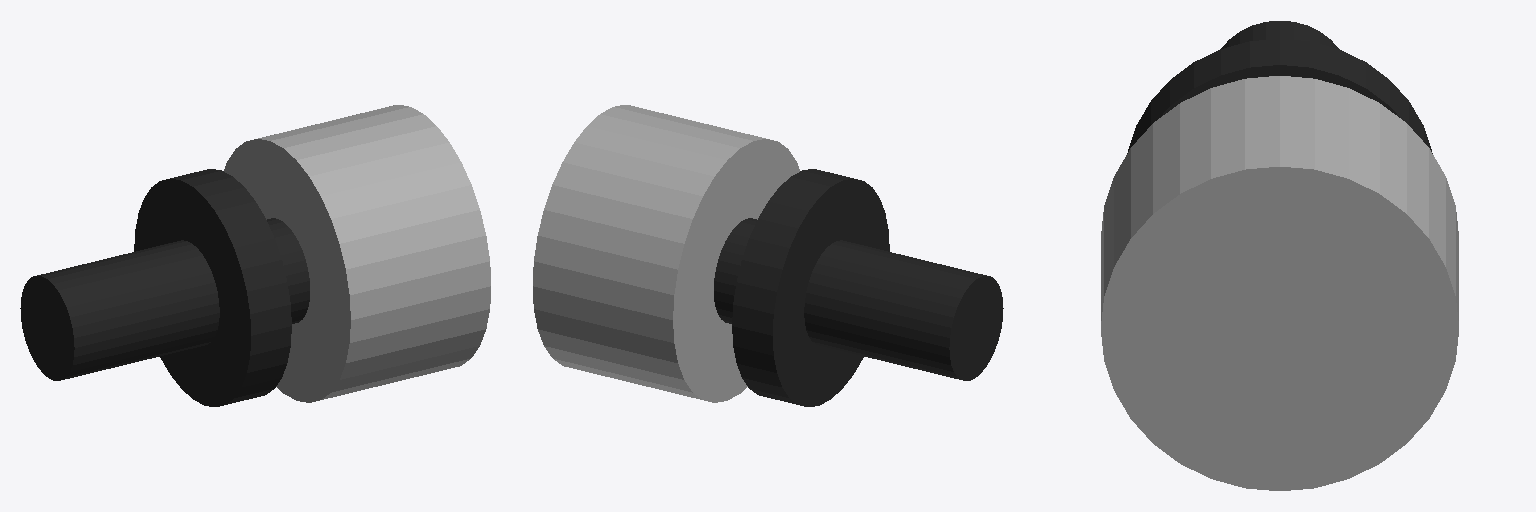
The robot description file, URDF, robot "panda":
<?xml version='1.0' encoding='utf-8'?>
<robot name="panda">

    <link name="link0">
      <inertial>
        <origin xyz="0 0 0.05" rpy="0 0 0" />
        <mass value="4" />
        <inertia ixx="0.4" iyy="0.4" izz="0.4" ixy="0" ixz="0" iyz="0" />
      </inertial>
      <visual>
        <geometry>
          <mesh filename="../../../models/panda/meshes/visual/link0.obj"/>
        </geometry>
      </visual>
    </link>
    <link name="link1">
      <inertial>
        <origin xyz="0 0 -0.07" rpy="0 -0 0" />
        <mass value="3" />
        <inertia ixx="0.3" iyy="0.3" izz="0.3" ixy="0" ixz="0" iyz="0" />
      </inertial>
      <visual>
        <geometry>
          <mesh filename="../../../models/panda/meshes/visual/link1.obj"/>
        </geometry>
      </visual>
    </link>
    <link name="link2">
      <inertial>
        <origin xyz="0 -0.1 0" rpy="0 -0 0" />
        <mass value="3" />
        <inertia ixx="0.3" iyy="0.3" izz="0.3" ixy="0" ixz="0" iyz="0" />
      </inertial>
      <visual>
        <geometry>
          <mesh filename="../../../models/panda/meshes/visual/link2.obj"/>
        </geometry>
      </visual>
    </link>
    <link name="link3">
      <inertial>
        <origin xyz="0.04 0 -0.05" rpy="0 -0 0" />
        <mass value="2" />
        <inertia ixx="0.2" iyy="0.2" izz="0.2" ixy="0" ixz="0" iyz="0" />
      </inertial>
      <visual>
        <geometry>
          <mesh filename="../../../models/panda/meshes/visual/link3.obj"/>
        </geometry>
      </visual>
    </link>
    <link name="link4">
      <inertial>
        <origin xyz="-0.04 0.05 0" rpy="0 -0 0" />
        <mass value="2" />
        <inertia ixx="0.2" iyy="0.2" izz="0.2" ixy="0" ixz="0" iyz="0" />
      </inertial>
      <visual>
        <geometry>
          <mesh filename="../../../models/panda/meshes/visual/link4.obj"/>
        </geometry>
      </visual>   
    </link>
    <link name="link5">
      <inertial>
        <origin xyz="0 0 -0.15" rpy="0 -0 0" />
        <mass value="2" />
        <inertia ixx="0.2" iyy="0.2" izz="0.2" ixy="0" ixz="0" iyz="0" />
      </inertial>
      <visual>
        <geometry>
          <mesh filename="../../../models/panda/meshes/visual/link5.obj"/>
        </geometry>
      </visual>
    </link>
    <link name="link6">
      <inertial>
        <origin xyz="0.06 0 0" rpy="0 -0 0" />
        <mass value="1.5" />
        <inertia ixx="0.1" iyy="0.1" izz="0.1" ixy="0" ixz="0" iyz="0" />
      </inertial>
      <visual>
        <geometry>
          <mesh filename="../../../models/panda/meshes/visual/link6.obj"/>
        </geometry>
      </visual>
    </link>
    <link name="link7">
      <inertial>
        <origin xyz="0 0 0.17" rpy="0 -0 0" />
        <mass value="1.8" />
        <inertia ixx="0.09" iyy="0.05" izz="0.07" ixy="0" ixz="0" iyz="0" />
      </inertial>
      <visual>
        <geometry>
          <mesh filename="../../../models/panda/meshes/visual/link7.obj"/>
        </geometry>
      </visual>
      <visual>
        <origin xyz="0.0 0.0 0.107" rpy="0.0 0.0 0.0"/>
        <geometry>
          <cylinder radius="0.0375" length="0.045"/>
        </geometry>
      </visual>
      <visual>
        <origin xyz="0.0 0.0 0.152" rpy="0.0 0.0 0.0"/>
        <geometry>
          <cylinder radius="0.0325" length="0.013" />
        </geometry>
        <material name = "gray">
          <color rgba="0.2 0.2 0.2 1.0"/>
        </material>
      </visual>
      <collision>
        <origin xyz="0.0 0.0 0.152" rpy="0.0 0.0 0.0"/>
        <geometry>
          <cylinder radius="0.0325" length="0.013" />
        </geometry>
        <material name = "gray">
          <color rgba="0.2 0.2 0.2 1.0"/>
        </material>
      </collision>
      <!-- <collision>
        <origin xyz="0.0 0.0 0.1" rpy="0.0 0.0 0.0"/>
        <geometry>
          <cylinder radius="0.0375" length="0.02" />
        </geometry>
      </collision> -->
    </link>
    <link name="end-effector">
      <inertial>
        <origin xyz="0 0 0" rpy="0 -0 0" />
        <mass value="0.2" />
        <inertia ixx="0.01" iyy="0.01" izz="0.01" ixy="0" ixz="0" iyz="0" />
      </inertial>
      <!-- <visual>
        <origin xyz="0.0 0.0 0.1" rpy="0.0 0.0 0.0"/>
        <geometry>
          <cylinder radius="0.0375" length="0.02" />
        </geometry>
      </visual>
      <collision>
        <origin xyz="0.0 0.0 0.1" rpy="0.0 0.0 0.0"/>
        <geometry>
          <cylinder radius="0.0375" length="0.02" />
        </geometry>
      </collision> -->
      <visual>
        <origin xyz="0.0 0.0 0.165" rpy="0.0 0.0 0.0"/>
        <geometry>
          <cylinder radius="0.015" length="0.080" />
        </geometry>
        <material name = "gray">
          <color rgba="0.2 0.2 0.2 1.0"/>
        </material>
      </visual>
      <collision>
        <origin xyz="0.0 0.0 0.165" rpy="0.0 0.0 0.0"/>
        <geometry>
          <cylinder radius="0.015" length="0.080" />
        </geometry>
        <material name = "gray">
          <color rgba="0.2 0.2 0.2 1.0"/>
        </material>
      </collision>
      <!-- <collision>
        <origin xyz="0.0 0.0 0.152" rpy="0.0 0.0 0.0"/>
        <geometry>
          <cylinder radius="0.008" length="0.05" />
        </geometry>
      </collision> -->
      <!-- <visual>
        <origin xyz="0.0 0.0 0.17" rpy="0.0 0.0 0.0"/>
          <geometry>
            <sphere radius= "0.01" />
          </geometry>
          <material name = "red">
            <color rgba="1.0 0.0 0.0 1.0"/>
          </material>
      </visual> -->
    </link>
  
    <joint name="joint1" type="revolute">
      <safety_controller k_position="100.0" k_velocity="40.0" soft_lower_limit="-2.8973" soft_upper_limit="2.8973"/>
      <origin rpy="0 0 0" xyz="0 0 0.333"/>
      <parent link="link0"/>
      <child link="link1"/>
      <axis xyz="0 0 1"/>
      <calibration falling="0.0" />
      <limit effort="87" lower="-2.8973" upper="2.8973" velocity="2.1750"/>
    </joint>
    <joint name="joint2" type="revolute">
      <safety_controller k_position="100.0" k_velocity="40.0" soft_lower_limit="-1.7628" soft_upper_limit="1.7628"/>
      <origin rpy="-1.57079632679 0 0" xyz="0 0 0"/>
      <parent link="link1"/>
      <child link="link2"/>
      <axis xyz="0 0 1"/>
      <calibration falling="-25.0" />
      <limit effort="87" lower="-1.7628" upper="1.7628" velocity="2.1750"/>
    </joint>
    <joint name="joint3" type="revolute">
      <safety_controller k_position="100.0" k_velocity="40.0" soft_lower_limit="-2.8973" soft_upper_limit="2.8973"/>
      <origin rpy="1.57079632679 0 0" xyz="0 -0.316 0"/>
      <parent link="link2"/>
      <child link="link3"/>
      <axis xyz="0 0 1"/>
      <limit effort="87" lower="-2.8973" upper="2.8973" velocity="2.1750"/>
    </joint>
    <joint name="joint4" type="revolute">
      <safety_controller k_position="100.0" k_velocity="40.0" soft_lower_limit="-3.0718" soft_upper_limit="-0.0698"/>
      <origin rpy="1.57079632679 0 0" xyz="0.0825 0 0"/>
      <parent link="link3"/>
      <child link="link4"/>
      <axis xyz="0 0 1"/>
      <calibration falling="-135.0" />
      <limit effort="87" lower="-3.0718" upper="-0.0698" velocity="2.1750"/>
    </joint>
    <joint name="joint5" type="revolute">
      <safety_controller k_position="100.0" k_velocity="40.0" soft_lower_limit="-2.8973" soft_upper_limit="2.8973"/>
      <origin rpy="-1.57079632679 0 0" xyz="-0.0825 0.384 0"/>
      <parent link="link4"/>
      <child link="link5"/>
      <axis xyz="0 0 1"/>
      <calibration falling="0.0" />
      <limit effort="12" lower="-2.8973" upper="2.8973" velocity="2.6100"/>
    </joint>
    <joint name="joint6" type="revolute">
      <safety_controller k_position="100.0" k_velocity="40.0" soft_lower_limit="-0.0175" soft_upper_limit="3.7525"/>
      <origin rpy="1.57079632679 0 0" xyz="0 0 0"/>
      <parent link="link5"/>
      <child link="link6"/>
      <axis xyz="0 0 1"/>
      <calibration falling="105.0" />
      <limit effort="12" lower="-0.0175" upper="3.7525" velocity="2.6100"/>
    </joint>
    <joint name="joint7" type="revolute">
      <safety_controller k_position="100.0" k_velocity="40.0" soft_lower_limit="-2.8973" soft_upper_limit="2.8973"/>
      <origin rpy="1.57079632679 0 0" xyz="0.088 0 0"/>
      <parent link="link6"/>
      <child link="link7"/>
      <axis xyz="0 0 1"/>
      <limit effort="12" lower="-2.8973" upper="2.8973" velocity="2.6100"/>
    </joint>
    <joint name="joint_ee" type="fixed">
      <origin rpy="0 0 0" xyz="0 0 0"/>
      <parent link="link7"/>
      <child link="end-effector"/>
    </joint>
</robot>

--- Render facts (derived) ---
The picture shows the robot from 3 angles, left to right: view 1: azimuth 30°, elevation 25°; view 2: azimuth 150°, elevation 25°; view 3: azimuth 270°, elevation 25°; orthographic projection.
Robot: panda — 9 links, 8 joints (7 revolute, 1 fixed); root link link0; default pose: all joints at 0 but 1 set to mid-range because 0 is outside their limits (joint4 = -1.57).
Links seen in each view (by area): view 1: link7, end-effector; view 2: link7, end-effector; view 3: link7, end-effector.
Link boxes in pixels (left/top/right/bottom): link7: left=134, top=105, right=490, bottom=406; end-effector: left=20, top=218, right=309, bottom=380; link7: left=533, top=105, right=889, bottom=406; end-effector: left=714, top=218, right=1003, bottom=380; link7: left=1101, top=39, right=1458, bottom=490; end-effector: left=1221, top=21, right=1338, bottom=48.
Bounding box of the posed robot: 0.1205 × 0.075 × 0.075 m (x, y, z).
Meshes: 8 distinct files referenced, 0 mesh visuals loaded (none loaded); not drawn: 8 (reference not matched to a file when rendering).